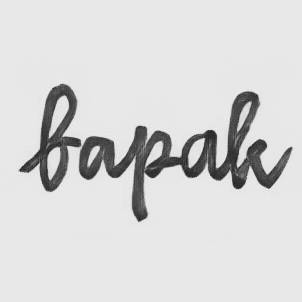a: (78, 132, 119, 183), (179, 128, 218, 181)
b: (37, 81, 78, 194)
k: (224, 89, 269, 192)
p: (130, 124, 173, 225)
